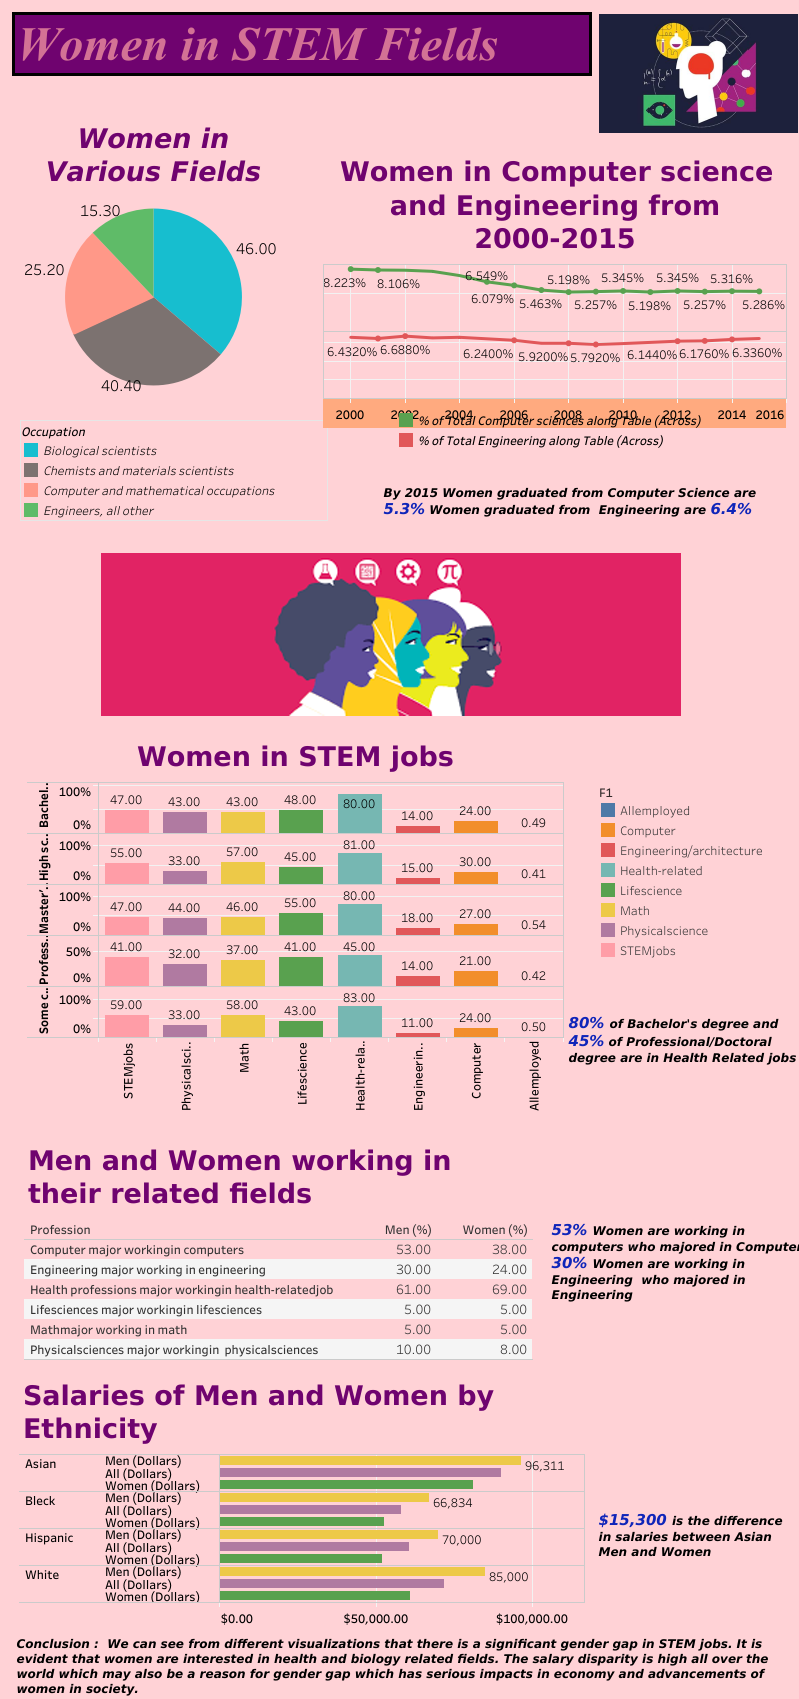

Layout of this report page (visuals, bound fields, positions):
{"tool":"tableau","page":{"name":"Dashboard 1 (2)","canvas":[800,1700],"ordinal":0},"visuals":[{"type":"image","param":"C:/Users/golda/OneDrive/Pictures/STEM report graphic.jpg","box":[599,2.8,199,141.7]},{"type":"title","box":[8,8,588,72]},{"type":"legend","title":"Sheet 5","param":"[federated.056n9lr0kkp5ie1c31kaj0b785bm].[:Measure Names]","box":[632,8,160,86]},{"type":"image","box":[8,80,588,1612]},{"type":"worksheet","title":"Sheet 1","mark":"Pie","box":[14,116,279,281]},{"type":"worksheet","title":"Sheet 2","mark":"Automatic","rows":["Computer sciences","Engineering"],"cols":["Year"],"box":[323,148.8,464,280.5]},{"type":"legend","title":"Sheet 2","param":"[federated.1rumlly1ee67uv0zovlqk0ygx5t2].[:Measure Names]","box":[396,410.1,309,81.8]},{"type":"legend","title":"Sheet 1","param":"[federated.1wnjpws0ftbvwq140vemf0h1wmn5].[none:Occupation:nk]","box":[20,419.7,308,164.7]},{"type":"text","box":[381,472.8,414,57.4]},{"type":"image","param":"C:/Users/golda/OneDrive/Pictures/images (4).png","box":[98,553,586,163]},{"type":"worksheet","title":"Sheet 3","mark":"Automatic","rows":["Bachelor's degree","High school or less","Master's degree","Professional Doctoral degree","Some college"],"cols":["F1"],"box":[27,734,537,379]},{"type":"legend","title":"Sheet 3","param":"[federated.19ocshj1j1wxlt124oq8q0v91poy].[none:F1:nk]","box":[598,781,169,189]},{"type":"worksheet","title":"Sheet 4","mark":"Automatic","rows":["Profession"],"box":[24,1137.9,568,211.4]},{"type":"worksheet","title":"Sheet 5","mark":"Automatic","rows":["Ethnicity"],"box":[18,1338,566,260]},{"type":"text","box":[596,1473.7,200,121.1]}]}

Visuals, with their boxes in screenshot pixels (x1, y1, x2, y2), scaled from the page's 800x1700 canvas onto the 799x1699 screenshot:
image: (x1=598, y1=3, x2=797, y2=144)
title: (x1=8, y1=8, x2=595, y2=80)
"Sheet 5" legend: (x1=631, y1=8, x2=791, y2=94)
image: (x1=8, y1=80, x2=595, y2=1691)
"Sheet 1" worksheet (Pie marks): (x1=14, y1=116, x2=293, y2=397)
"Sheet 2" worksheet: (x1=323, y1=149, x2=786, y2=429)
"Sheet 2" legend: (x1=396, y1=410, x2=704, y2=492)
"Sheet 1" legend: (x1=20, y1=419, x2=328, y2=584)
text: (x1=381, y1=473, x2=794, y2=530)
image: (x1=98, y1=553, x2=683, y2=716)
"Sheet 3" worksheet: (x1=27, y1=734, x2=563, y2=1112)
"Sheet 3" legend: (x1=597, y1=781, x2=766, y2=969)
"Sheet 4" worksheet: (x1=24, y1=1137, x2=591, y2=1349)
"Sheet 5" worksheet: (x1=18, y1=1337, x2=583, y2=1597)
text: (x1=595, y1=1473, x2=795, y2=1594)
